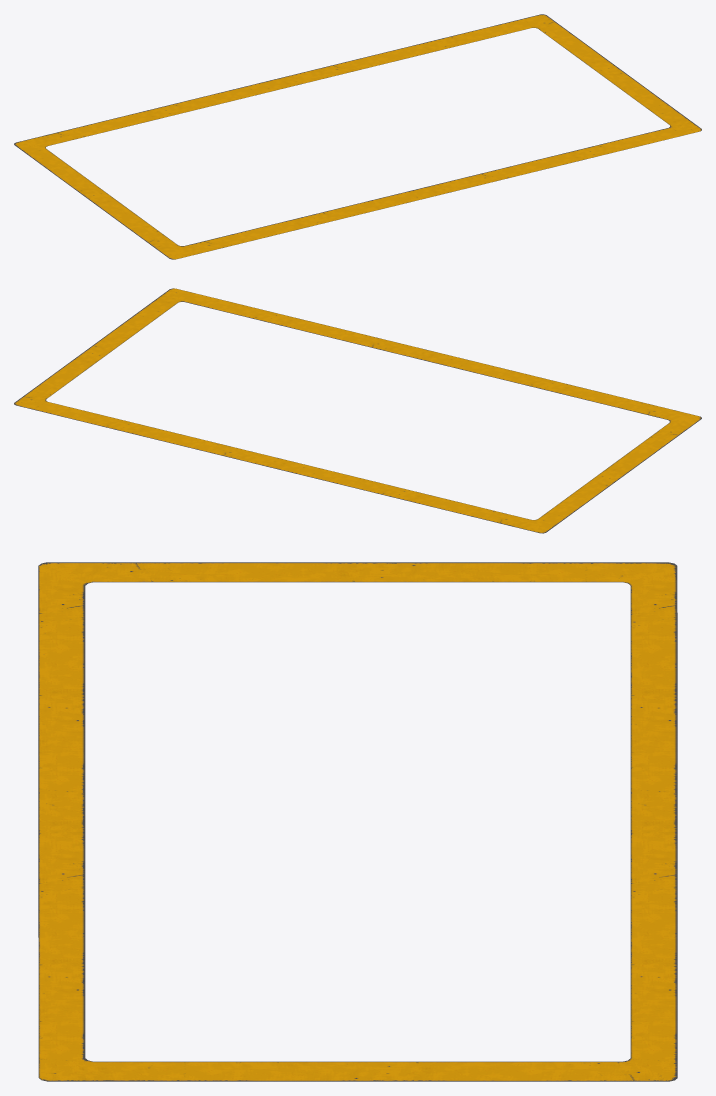
File: SM_FloorDecal_Rec2x4.FBX
The picture shows the model from 3 angles, top to bottom: view 1: azimuth 30°, elevation 25°; view 2: azimuth 150°, elevation 25°; view 3: azimuth 270°, elevation 25°; orthographic projection. The views are drawn at different scales.
Parts seen in each view (by area): view 1: SM_FloorDecal_Rec2x4; view 2: SM_FloorDecal_Rec2x4; view 3: SM_FloorDecal_Rec2x4.
Boxes of the visible parts, x1,y1,x2,y2 form: SM_FloorDecal_Rec2x4: (14, 14, 701, 259); SM_FloorDecal_Rec2x4: (14, 288, 701, 533); SM_FloorDecal_Rec2x4: (38, 562, 677, 1081).
Size of the model in its own units: 414 by 215 by 0.
